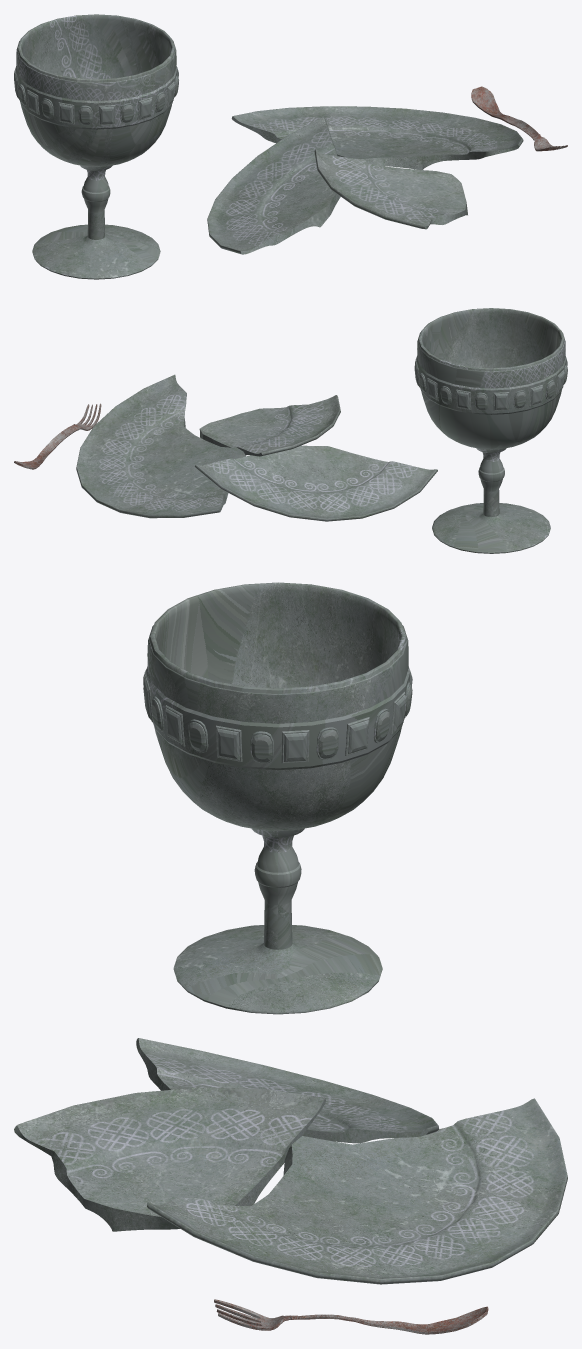
The model's file is Themed Props.fbx.
3 views of the same model, one above another, from view 1: azimuth 30°, elevation 25°; view 2: azimuth 150°, elevation 25°; view 3: azimuth 270°, elevation 25° (orthographic). The views are drawn at different scales.
Visible parts, largest first — view 1: Plate_Curve2, Chalice, Fork_Bent; view 2: Plate_Curve2, Chalice, Fork_Bent; view 3: Plate_Curve2, Chalice, Fork_Bent.
Part boxes in pixels (<box>): Plate_Curve2: <box>207,106,523,254</box>; Chalice: <box>14,14,178,279</box>; Fork_Bent: <box>471,86,567,151</box>; Plate_Curve2: <box>76,374,437,521</box>; Chalice: <box>414,308,567,553</box>; Fork_Bent: <box>14,403,101,469</box>; Plate_Curve2: <box>14,1038,567,1284</box>; Chalice: <box>143,582,412,1014</box>; Fork_Bent: <box>214,1299,488,1334</box>.
Size of the model in its own units: 16.57 by 6.49 by 9.27.
